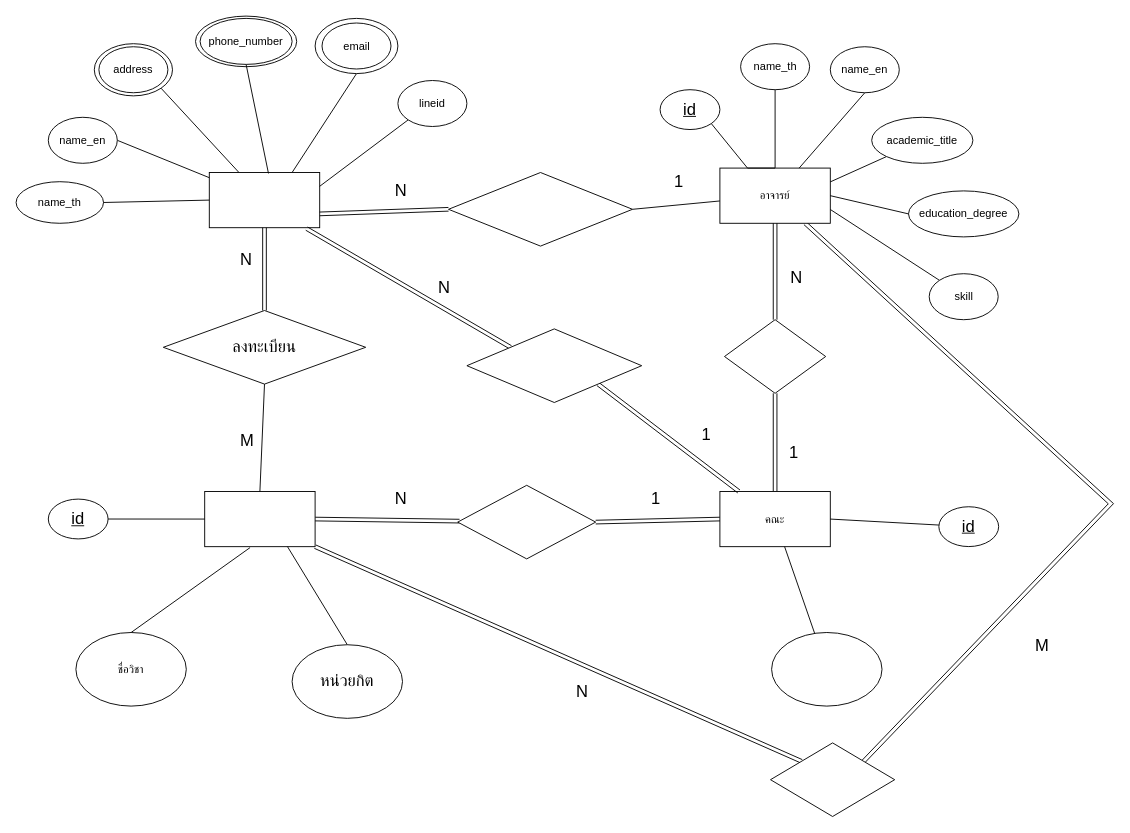
Image size: 1130x833. Some labels were removed from this diagram. Each missing label, with the centre of its shape:
ของ: the point at 526,521
ชื่อคณะ: the point at 826,669
นิสิต: the point at 264,200
ปรึกษา: the point at 540,209
วิชา: the point at 259,519
สอน: the point at 832,779
อยู่: the point at 554,365
อยู่2: the point at 775,356
